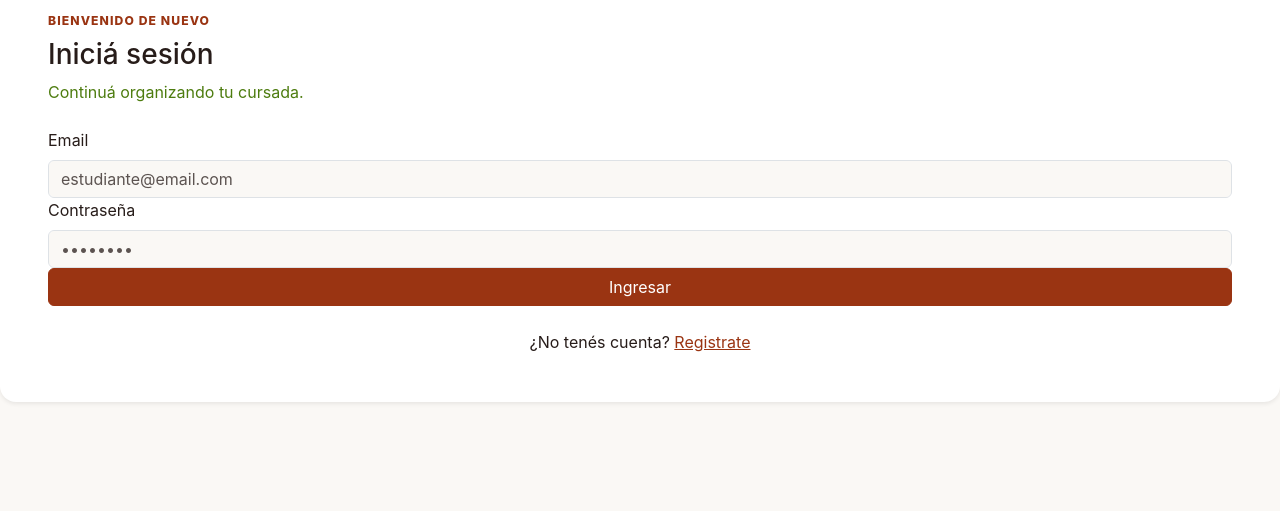
it: LoginPage › muestra validaciones accesibles al enviar campos vacíos
The width and height of the screenshot is (1280, 511).
Click the button "Ingresar" at (640, 287), box [48,268,1232,306]
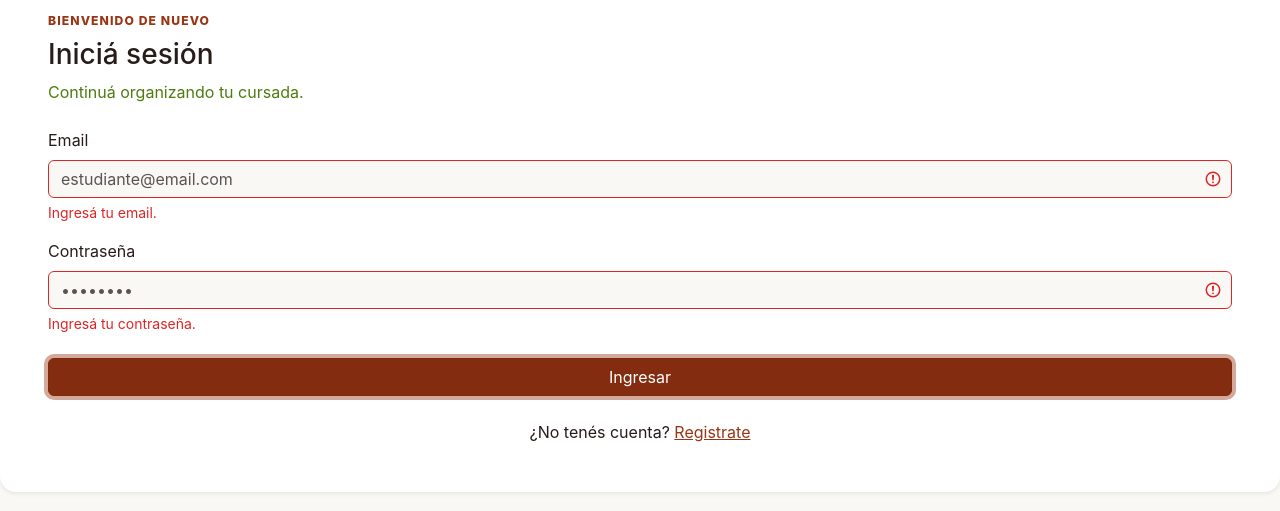
Check: the text "Ingresá tu email." is shown, box [48,204,157,221]
Check: the text "Ingresá tu contraseña." is shown, box [48,315,196,332]
